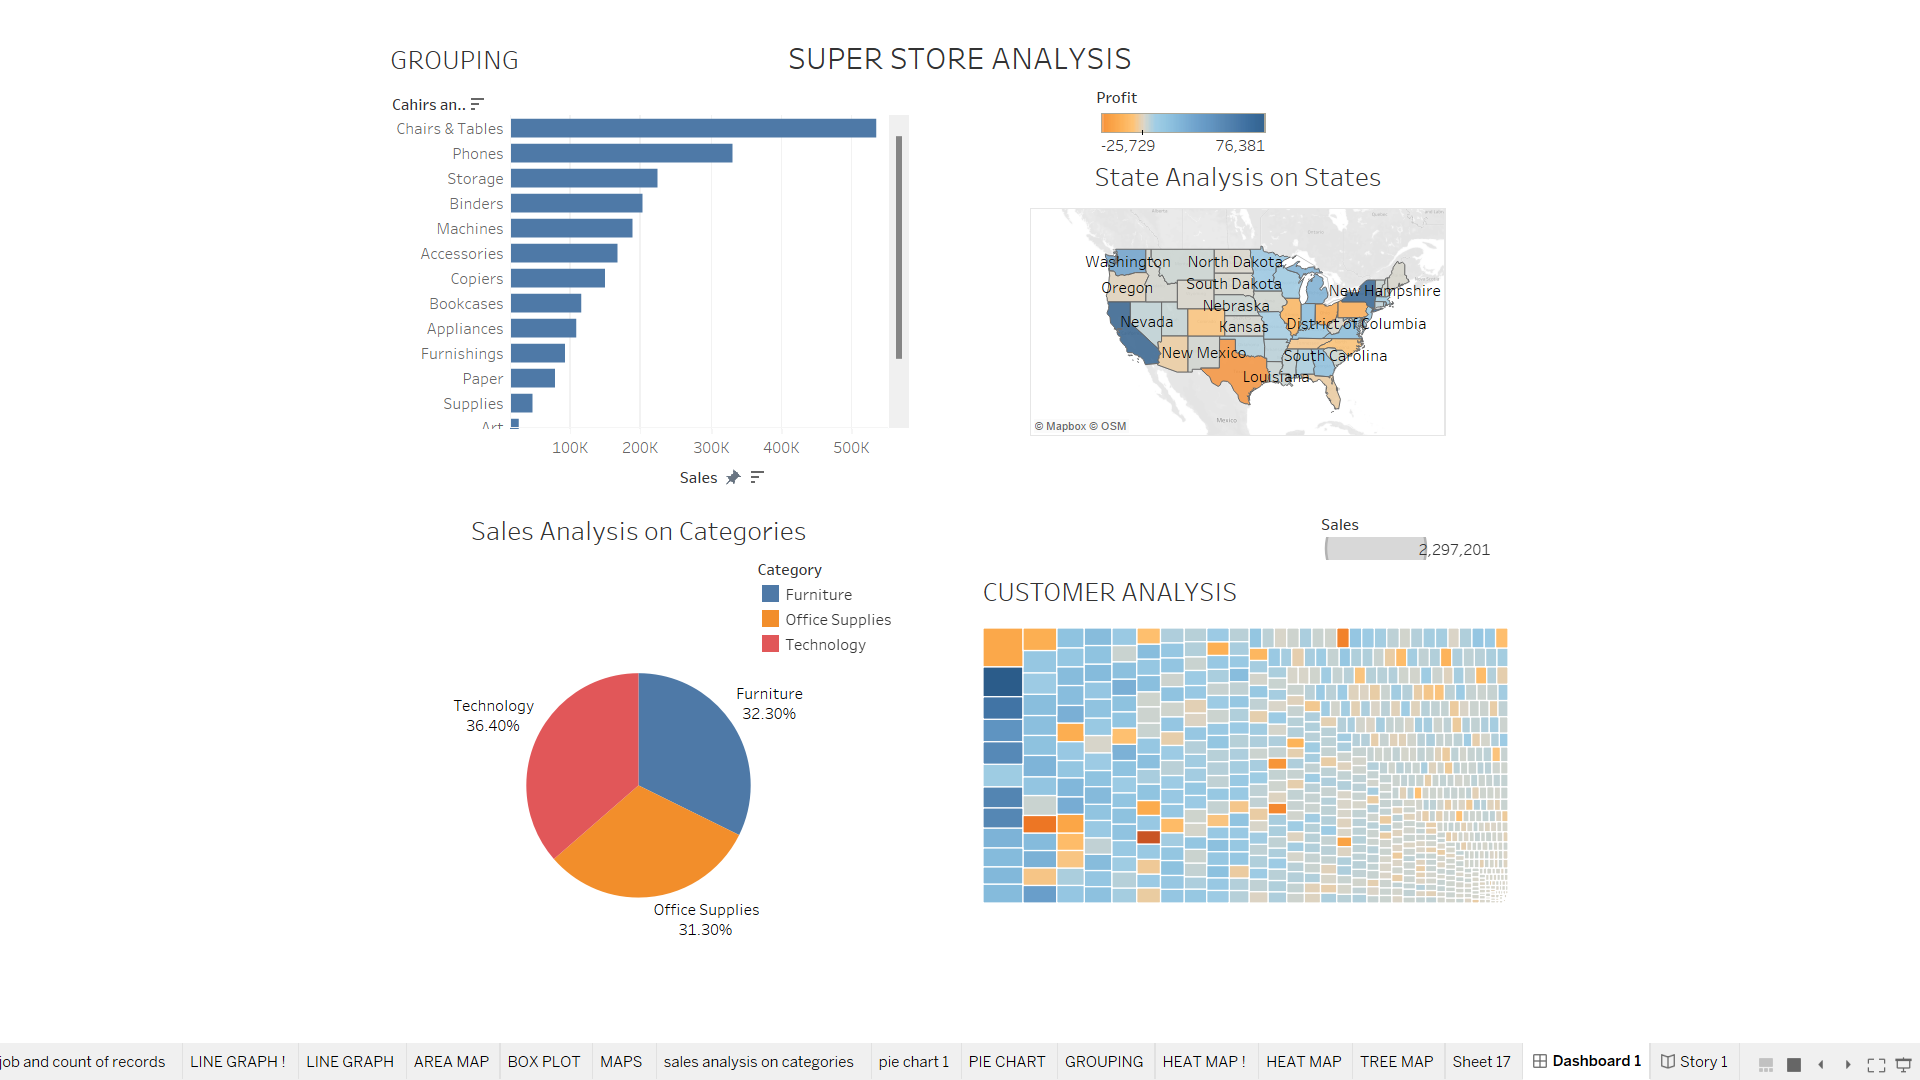

Layout of this report page (visuals, bound fields, positions):
{"tool":"tableau","page":{"name":"Dashboard 1","canvas":[1000,800],"ordinal":0},"visuals":[{"type":"title","box":[8,8,984,42]},{"type":"worksheet","title":"GROUPING","mark":"Automatic","cols":["Sales"],"box":[40,12,419,368]},{"type":"legend","title":"sales analysis on categories","param":"[federated.0q7mv2o19sazcq14pao370qlxyvs].[sum:Sales:qk]","box":[753,59,140,38]},{"type":"worksheet","title":"MAPS ","mark":"Automatic","box":[556,106,333,226]},{"type":"worksheet","title":"sales analysis on categories","mark":"Pie","box":[21,389,444,402]},{"type":"legend","title":"MAPS ","param":"[federated.0q7mv2o19sazcq14pao370qlxyvs].[sum:Profit:qk]","box":[800,399,140,76]},{"type":"legend","title":"sales analysis on categories","param":"[federated.0q7mv2o19sazcq14pao370qlxyvs].[none:Category:nk]","box":[338,430,140,78]},{"type":"worksheet","title":"HEAT MAP","mark":"Automatic","box":[514,438,428,328]}]}

Visuals, with their boxes on the page's 1000x800 design canvas (x1, y1, x2, y2). These are canvas units, not pixel positions in the 1920x1080 screenshot, which may show the page scaled, cropped or inside an application window:
title: [8,8,992,50]
"GROUPING" worksheet: [40,12,459,380]
"sales analysis on categories" legend: [753,59,893,97]
"MAPS " worksheet: [556,106,889,332]
"sales analysis on categories" worksheet (Pie marks): [21,389,465,791]
"MAPS " legend: [800,399,940,475]
"sales analysis on categories" legend: [338,430,478,508]
"HEAT MAP" worksheet: [514,438,942,766]
